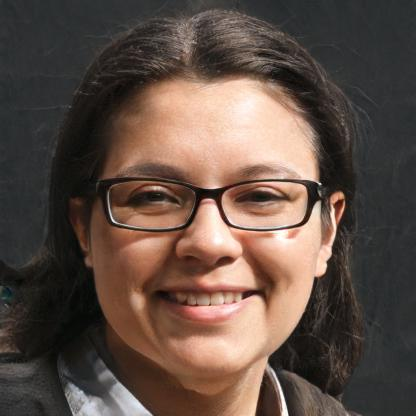glasses: (93, 172, 318, 238)
